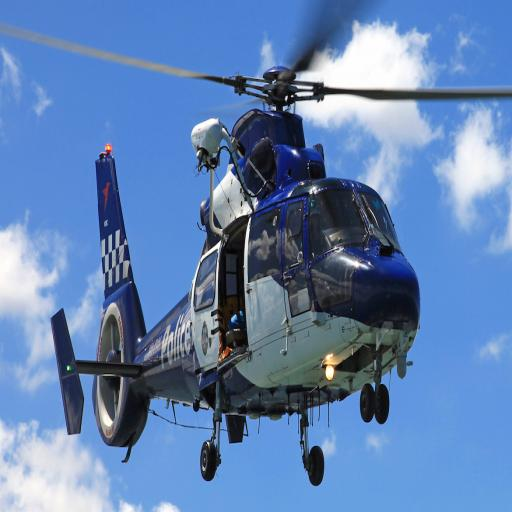helicopter: (5, 9, 488, 499)
